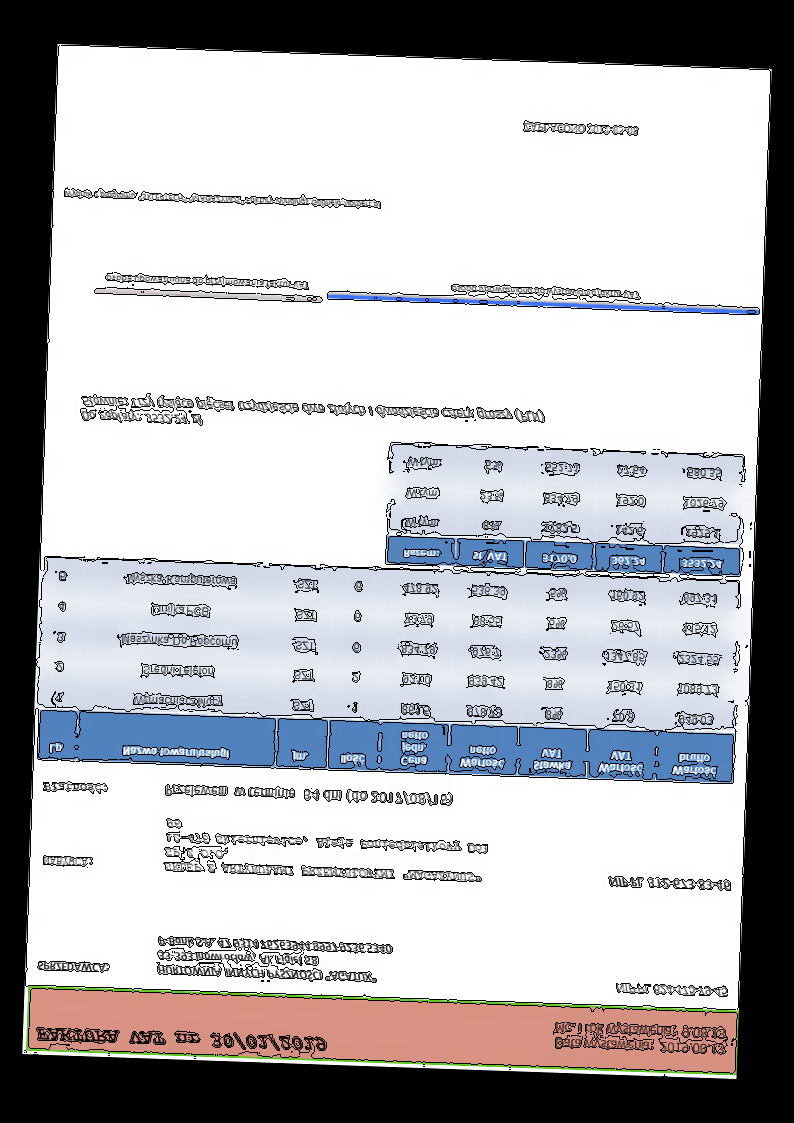Table: (36, 555, 741, 785), (385, 443, 746, 578), (79, 391, 546, 440)
TextBox: (160, 816, 492, 886), (155, 934, 394, 985), (33, 1023, 327, 1056), (61, 186, 383, 212), (163, 782, 454, 808), (551, 1020, 727, 1058), (102, 272, 311, 291), (449, 282, 642, 301), (605, 874, 733, 893), (613, 980, 729, 999), (522, 121, 639, 138), (35, 958, 110, 975), (41, 779, 108, 797), (40, 855, 95, 869)
